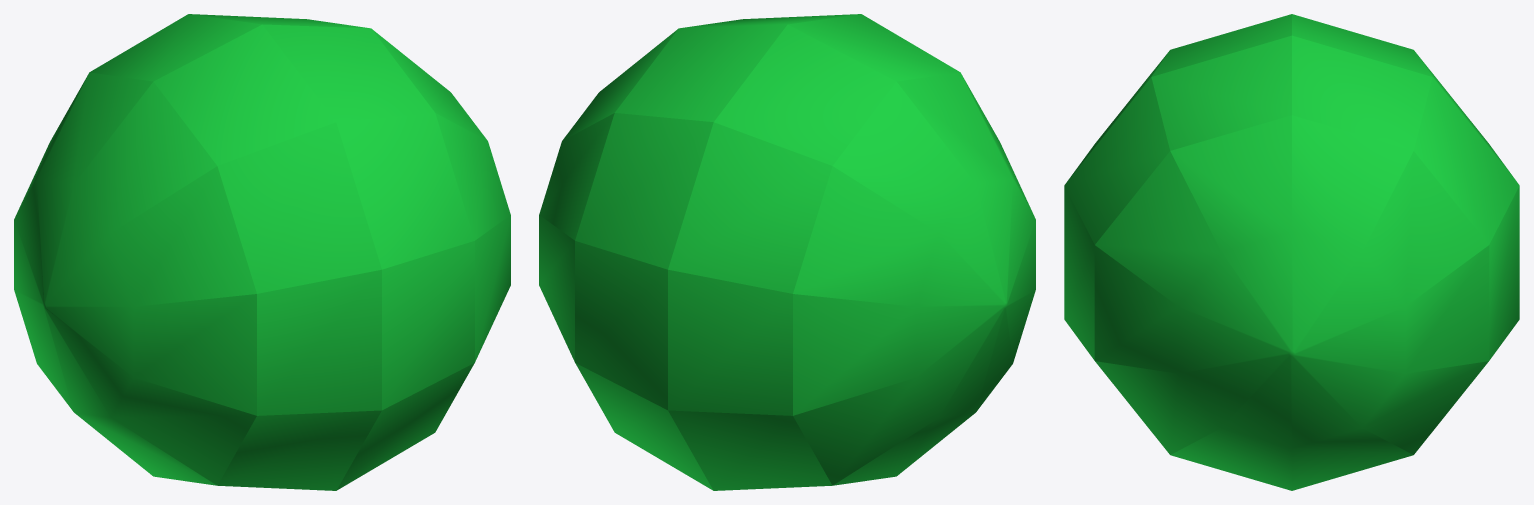
The model's file is right_nav_light.obj.
3 renders of one model, left to right at view 1: azimuth 30°, elevation 25°; view 2: azimuth 150°, elevation 25°; view 3: azimuth 270°, elevation 25°, orthographic. The views are drawn at different scales.
Parts seen in each view (by area): view 1: right_nav_light; view 2: right_nav_light; view 3: right_nav_light.
Boxes of the visible parts, x1,y1,x2,y2 form: right_nav_light: (14,14,510,490); right_nav_light: (539,14,1035,490); right_nav_light: (1064,14,1519,490).
Size of the model in its own units: 0.016 by 0.016 by 0.0152.
